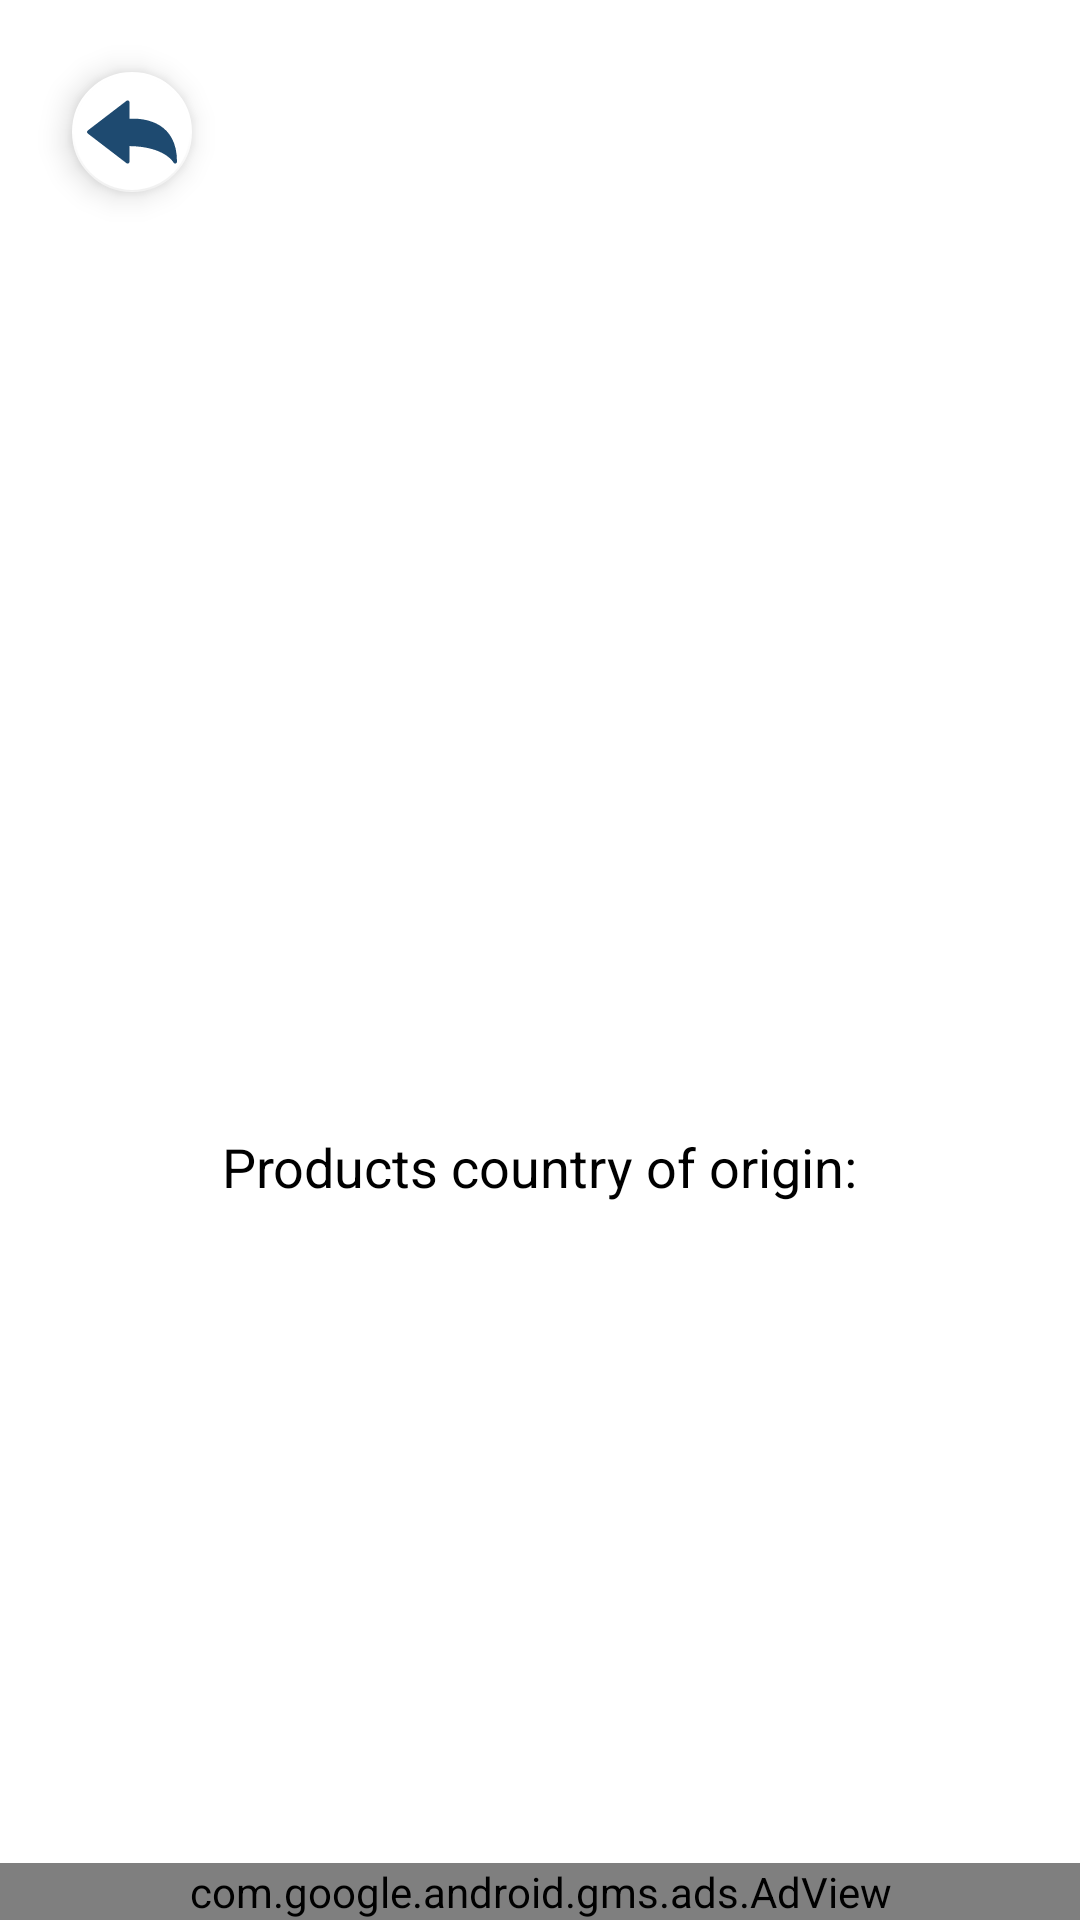

Where to tap for icons on this 1080 x 1920 app screen, as (x=x, y=y):
back arrow: (x=123, y=138)
